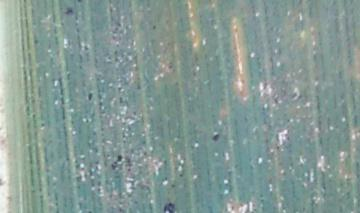tarspot: (162, 201, 176, 213), (63, 5, 75, 16), (210, 133, 221, 142), (87, 91, 95, 102), (116, 153, 124, 163), (82, 43, 90, 52), (110, 162, 118, 171), (166, 63, 173, 71), (33, 37, 39, 46), (191, 69, 197, 78), (118, 95, 124, 104), (39, 121, 46, 128), (177, 172, 184, 179), (170, 182, 177, 189), (151, 23, 157, 31), (126, 166, 132, 173), (163, 175, 169, 182), (275, 144, 280, 151), (75, 1, 83, 3)
